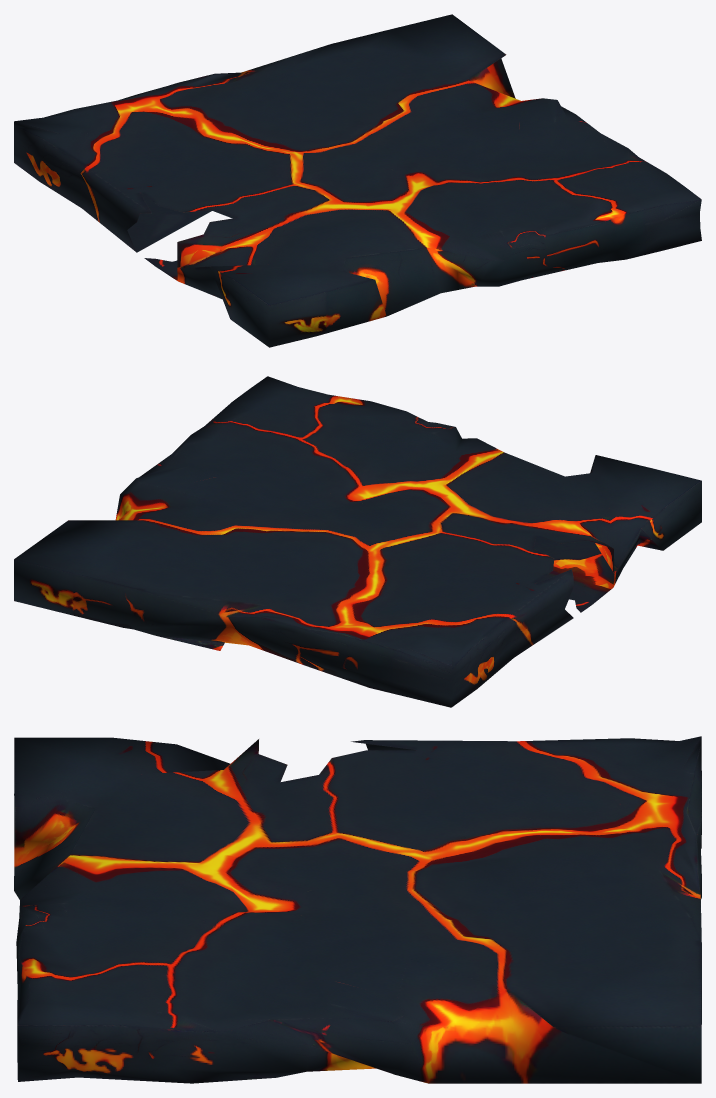
Rendered from floor_1.glb.
3 views of the same model, one above another, from view 1: azimuth 30°, elevation 25°; view 2: azimuth 150°, elevation 25°; view 3: azimuth 270°, elevation 25° (orthographic). The views are drawn at different scales.
Size of the model in its own units: 1.91 by 0.1822 by 1.91.
1 material, 1 textured.
